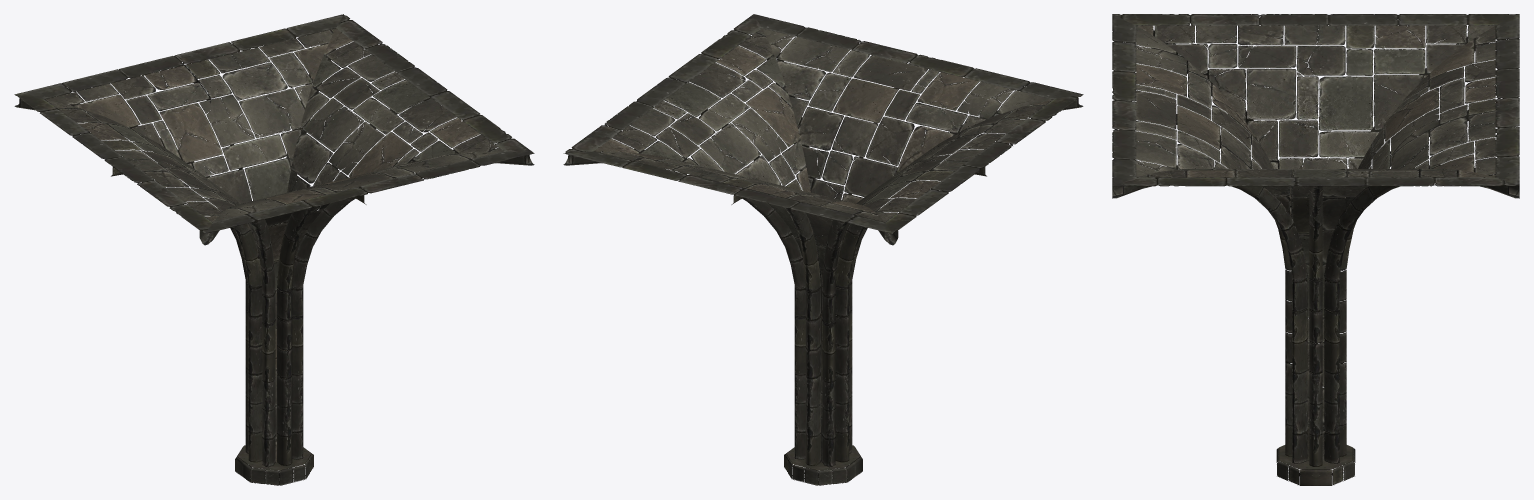
3 renders of one model, left to right at view 1: azimuth 30°, elevation 25°; view 2: azimuth 150°, elevation 25°; view 3: azimuth 270°, elevation 25°, orthographic. The views are drawn at different scales.
Visible parts, largest first — view 1: SM_Dowdun_Vaulted_Ceiling_12x12_01_LOD0; view 2: SM_Dowdun_Vaulted_Ceiling_12x12_01_LOD0; view 3: SM_Dowdun_Vaulted_Ceiling_12x12_01_LOD0.
Part boxes in pixels (bbox=[...]): SM_Dowdun_Vaulted_Ceiling_12x12_01_LOD0: bbox=[14, 14, 534, 485]; SM_Dowdun_Vaulted_Ceiling_12x12_01_LOD0: bbox=[563, 14, 1083, 485]; SM_Dowdun_Vaulted_Ceiling_12x12_01_LOD0: bbox=[1112, 14, 1519, 485].
Bounding box in the file's own units: 12 × 12 × 12.
Materials: 2 (2 with a texture image).
